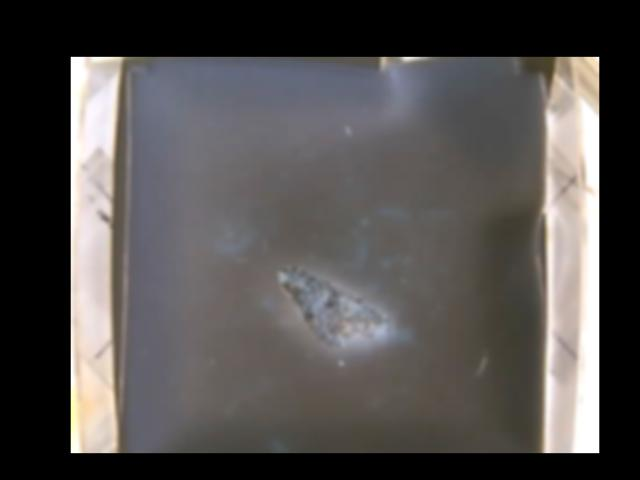Brisk: (278, 264, 380, 345)
